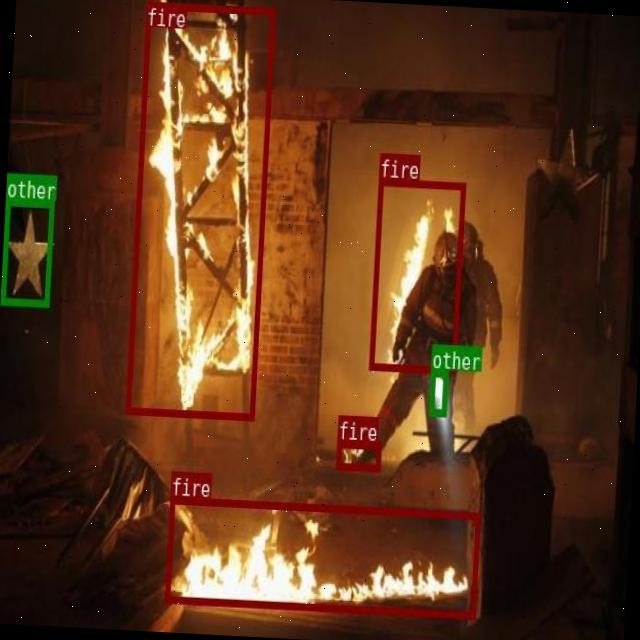fire: (126, 2, 275, 420), (165, 497, 480, 618), (368, 177, 464, 373), (336, 439, 381, 470)
